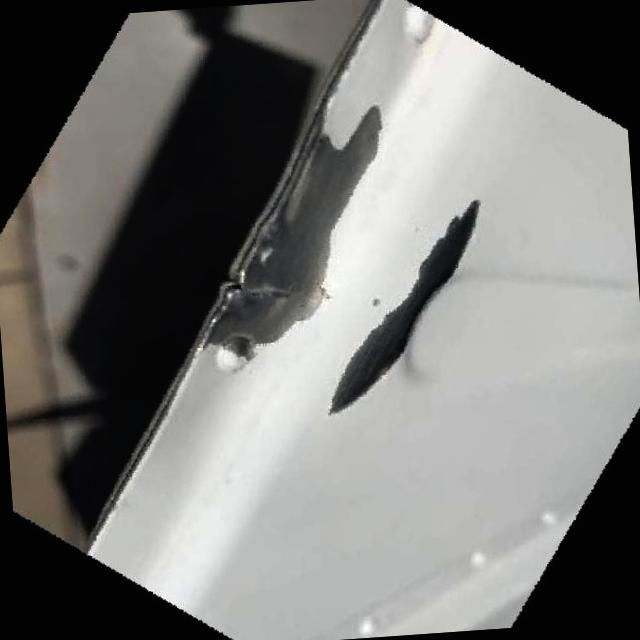crack: (221, 250, 318, 312)
